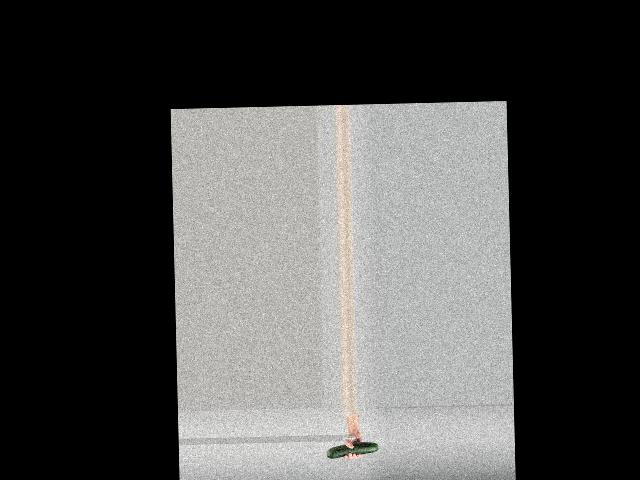cucumber: (325, 441, 377, 458)
